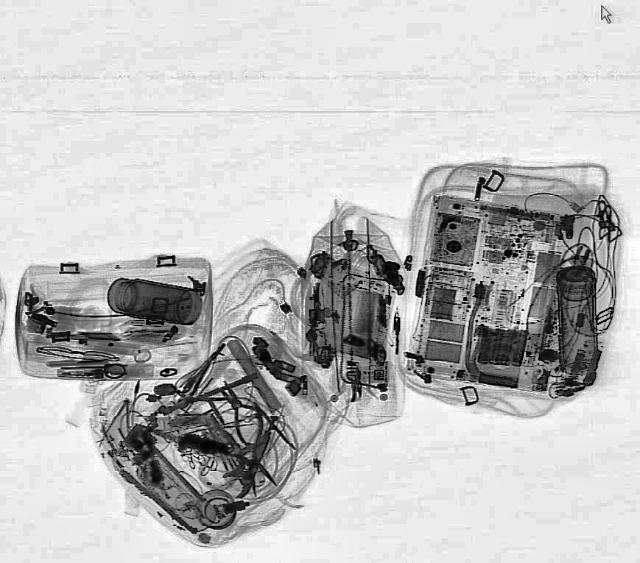Pliers: (204, 400, 296, 502), (202, 375, 280, 449)
